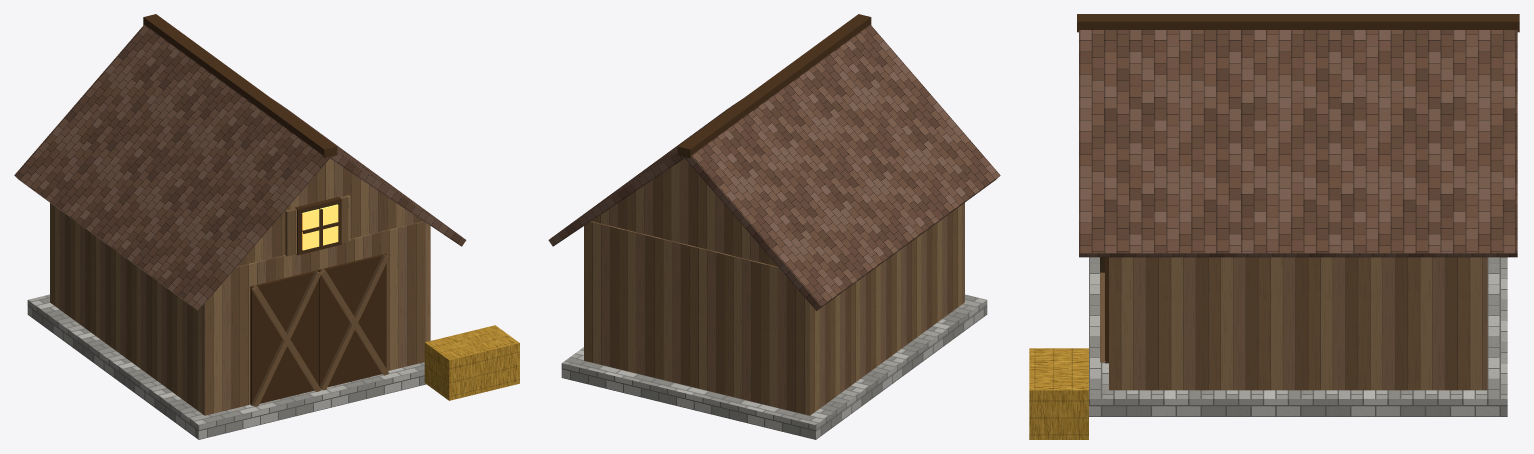
File: barn.glb
3 renders of one model, left to right at view 1: azimuth 30°, elevation 25°; view 2: azimuth 150°, elevation 25°; view 3: azimuth 270°, elevation 25°, orthographic. The views are drawn at different scales.
Visible parts, largest first — view 1: barn; view 2: barn; view 3: barn.
Part boxes in pixels (x1,y1,x2,y2): barn: (14,14,519,439); barn: (548,14,1000,439); barn: (1029,14,1519,439).
Size of the model in its own units: 4.33 by 3.58 by 4.92.
6 materials, 4 textured.
